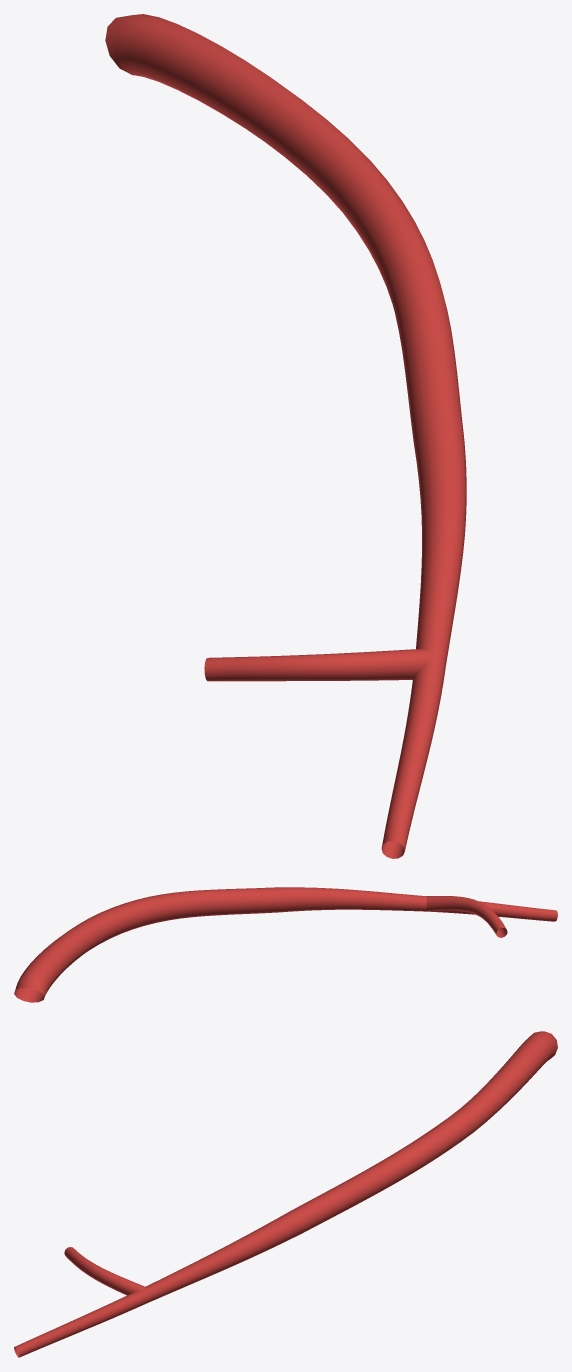
3 views of the same model, one above another, from view 1: azimuth 30°, elevation 25°; view 2: azimuth 150°, elevation 25°; view 3: azimuth 330°, elevation 25° (orthographic). The views are drawn at different scales.
Visible parts, largest first — view 1: 左侧甲状腺下动脉; view 2: 左侧甲状腺下动脉; view 3: 左侧甲状腺下动脉.
Part boxes in pixels (left/top/right/bottom): 左侧甲状腺下动脉: left=105, top=14, right=466, bottom=858; 左侧甲状腺下动脉: left=14, top=887, right=557, bottom=1002; 左侧甲状腺下动脉: left=14, top=1031, right=557, bottom=1357.
Bounding box in the file's own units: 0.0216 × 0.0114 × 0.0503.
